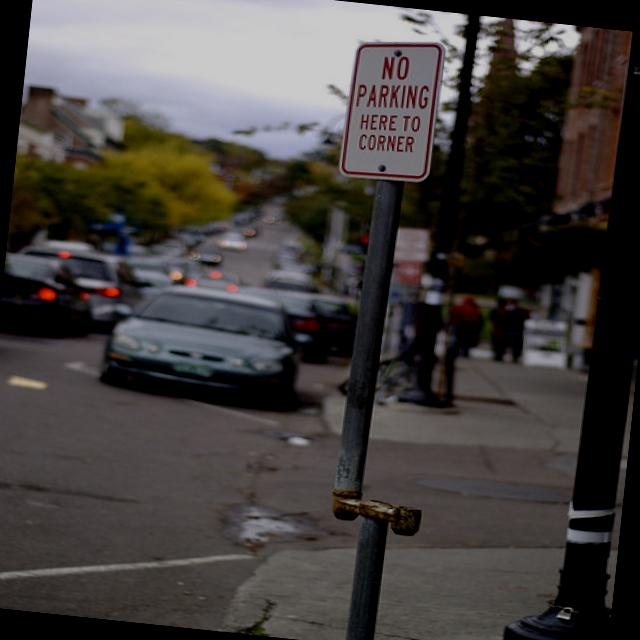Vehicle: (104, 274, 312, 402), (16, 244, 156, 328), (233, 283, 359, 356), (0, 252, 101, 341), (233, 288, 340, 362), (20, 236, 95, 260), (209, 223, 252, 256), (264, 270, 316, 292), (260, 213, 284, 226)
